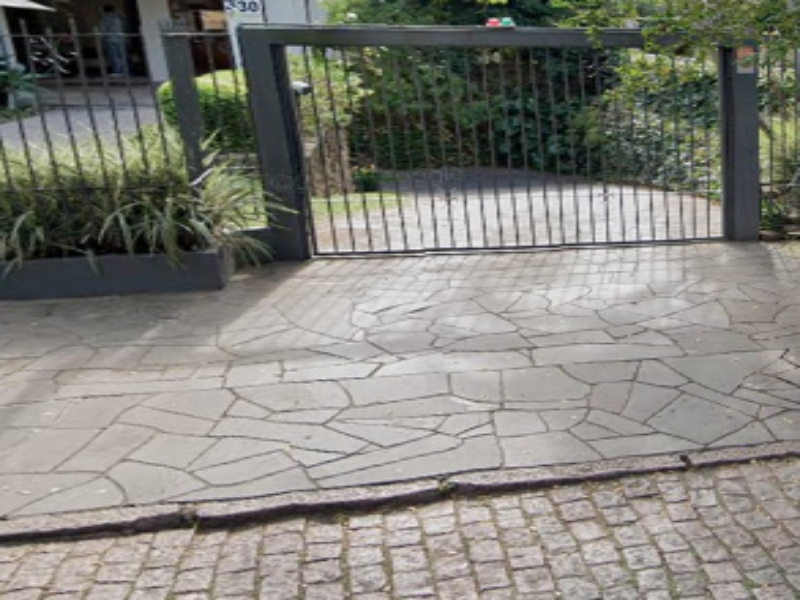g98: (35, 451, 800, 548)
